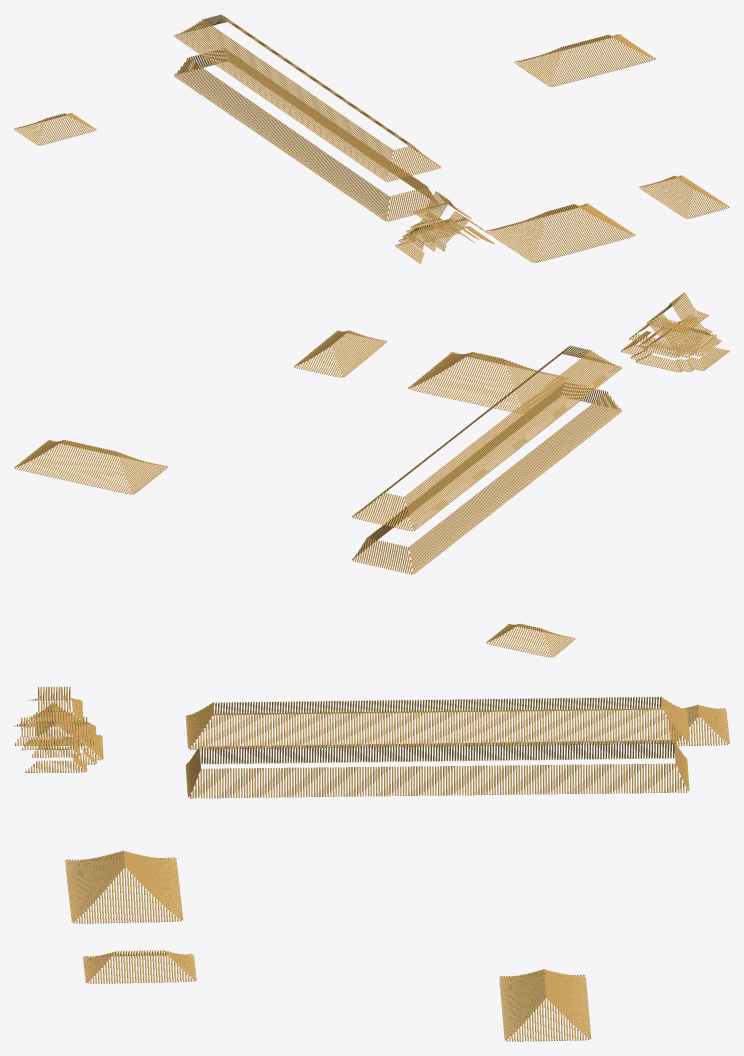
The model's file is roof-tiles-0-1.glb.
The picture shows the model from 3 angles, top to bottom: view 1: azimuth 30°, elevation 25°; view 2: azimuth 150°, elevation 25°; view 3: azimuth 270°, elevation 25°; orthographic projection. The views are drawn at different scales.
Parts seen in each view (by area): view 1: roof-tiles-0-1_micro_Roof_Glazed_Ochre; view 2: roof-tiles-0-1_micro_Roof_Glazed_Ochre; view 3: roof-tiles-0-1_micro_Roof_Glazed_Ochre.
Boxes of the visible parts, x1=… form: roof-tiles-0-1_micro_Roof_Glazed_Ochre: x1=14, y1=14, x2=729, y2=263; roof-tiles-0-1_micro_Roof_Glazed_Ochre: x1=14, y1=292, x2=729, y2=657; roof-tiles-0-1_micro_Roof_Glazed_Ochre: x1=14, y1=686, x2=729, y2=1041.
Size of the model in its own units: 1.16 by 0.19 by 1.06.
